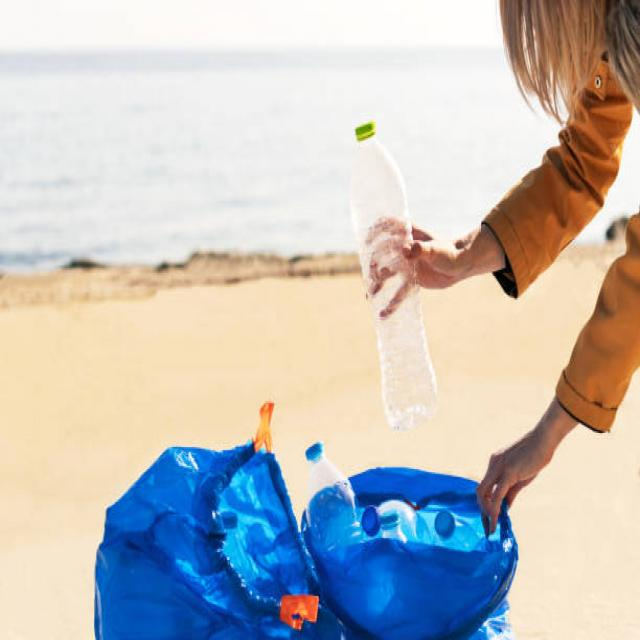plastic: (354, 125, 444, 416)
